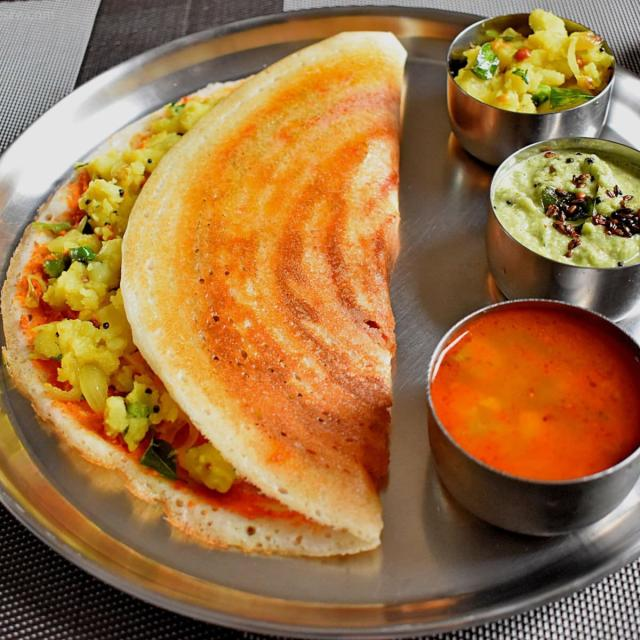DOSA: (2, 32, 406, 550)
